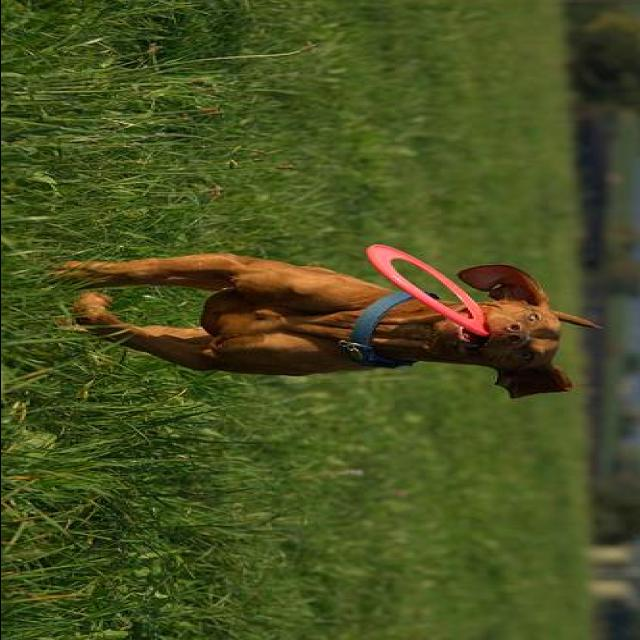vizsla: (34, 234, 604, 401)
